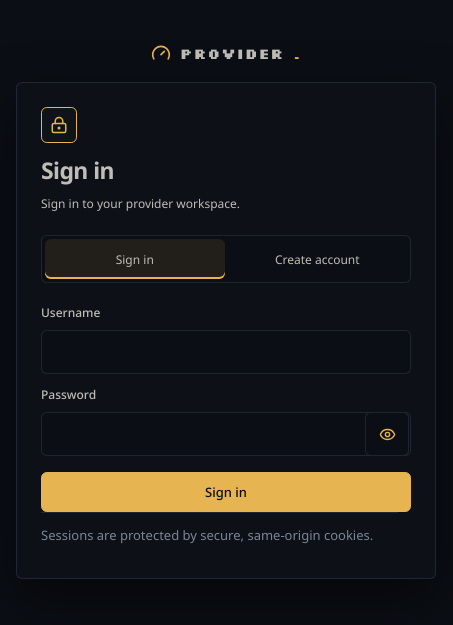
local auth › offers accessible local login without an HCA control and uses generic credential errors
Type "person" into the field labelled "Username" at (226, 352), box [41,330,411,374]
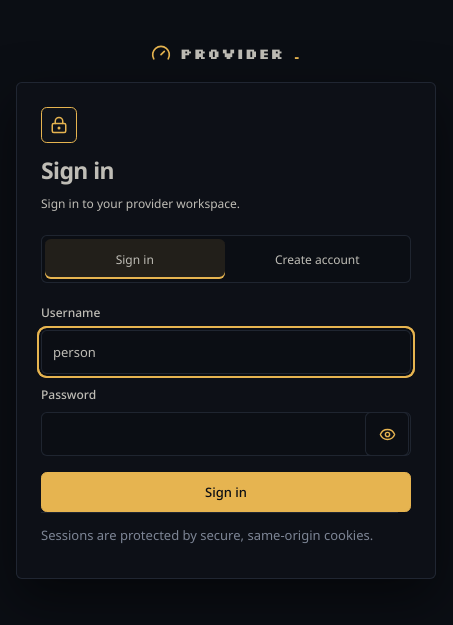
Type "wrong-password" into the password field labelled "Password" at (226, 434), box [41,412,411,456]
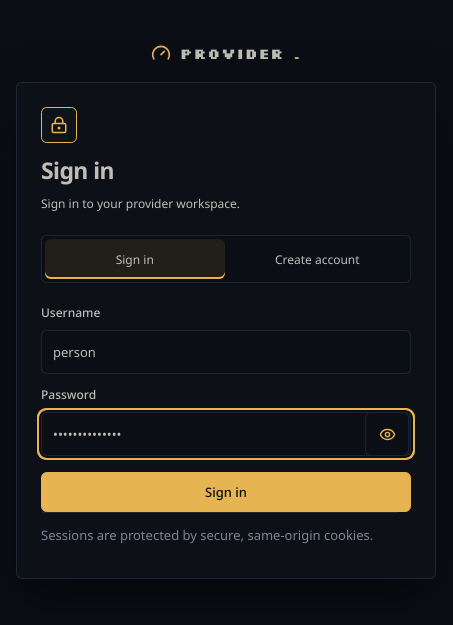
Click the button "Sign in" below "Password" at (226, 492), box [41,472,411,512]
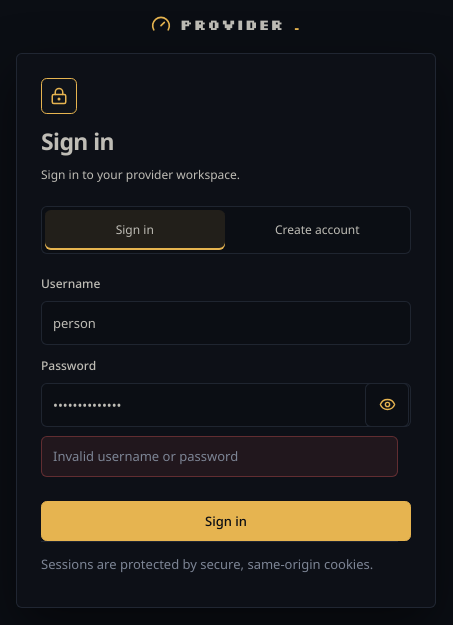
Expected: the message reads "Invalid username or password", [53,447,238,465]
